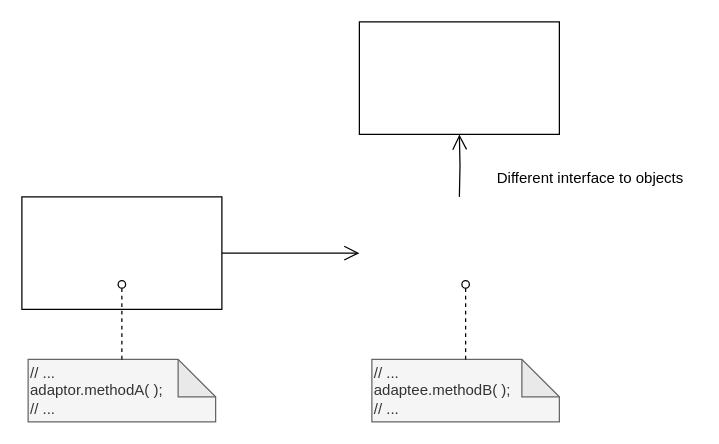
Some shapes in this 719 by 444 pixel diagram are drawn without their labels. Each missing label, with the centre of its shape:
Adaptee + methodB ( ): (x=458, y=77)
Client + adaptor : Adaptor + doWork( ): (x=121, y=252)
